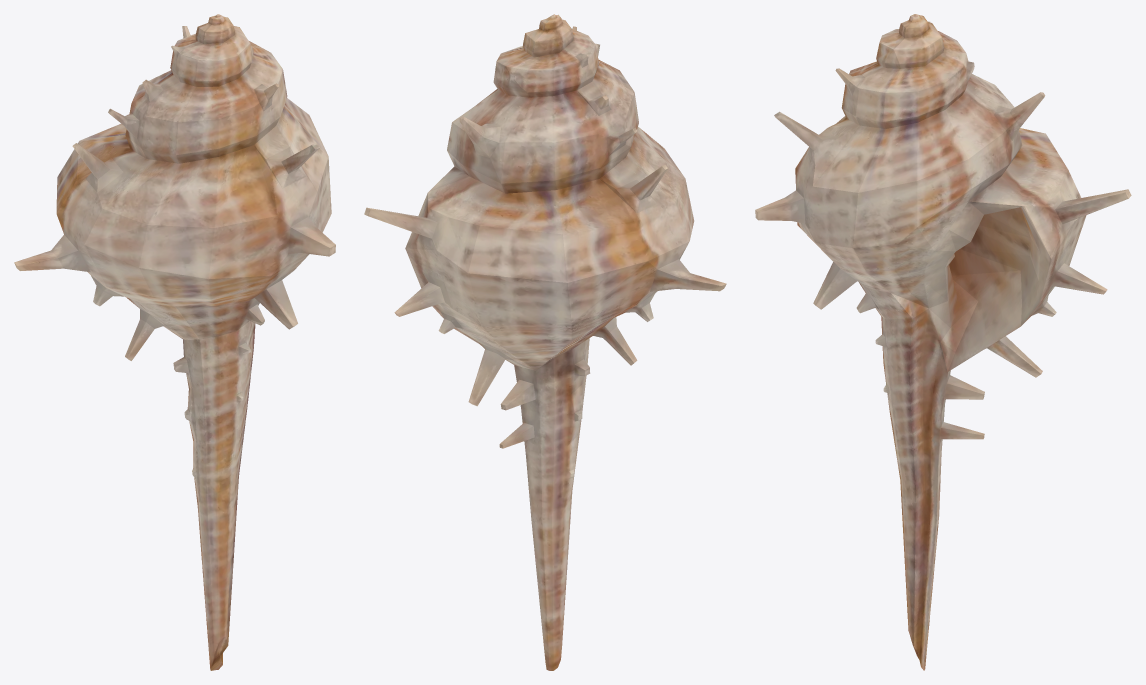
File: murex-shell-murex-brandaris.glb
The picture shows the model from 3 angles, left to right: view 1: azimuth 30°, elevation 25°; view 2: azimuth 150°, elevation 25°; view 3: azimuth 270°, elevation 25°; orthographic projection.
Visible parts, largest first — view 1: Murex_Murex_MAT_0; view 2: Murex_Murex_MAT_0; view 3: Murex_Murex_MAT_0.
Boxes of the visible parts, x1,y1,x2,y2 form: Murex_Murex_MAT_0: (14, 14, 335, 670); Murex_Murex_MAT_0: (364, 14, 726, 670); Murex_Murex_MAT_0: (755, 14, 1131, 670).
Size of the model in its own units: 0.0297 by 0.0665 by 0.0346.
1 material, 1 textured.
